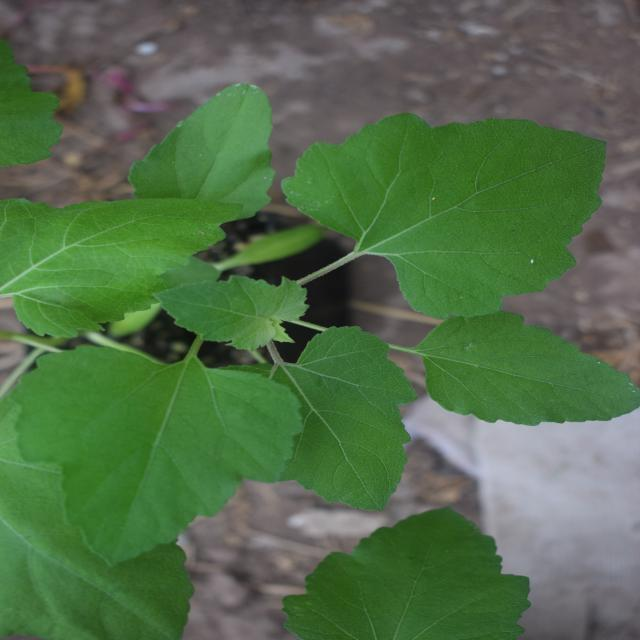cocklebur: (69, 17, 525, 603)
